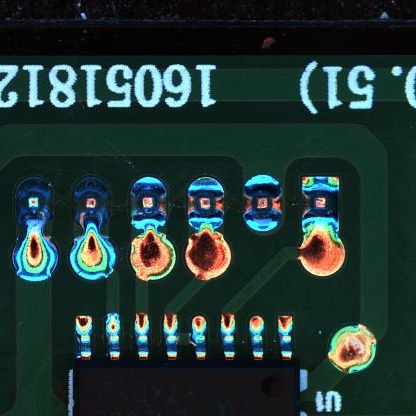spot: (301, 176, 341, 230), (246, 175, 284, 231), (131, 176, 167, 231), (189, 179, 224, 229), (73, 178, 109, 226), (18, 179, 53, 224)
